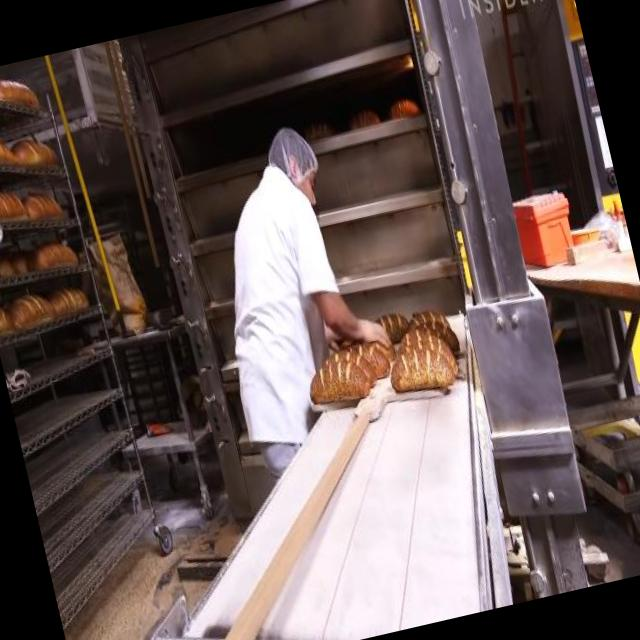hairnet: (264, 120, 319, 182)
